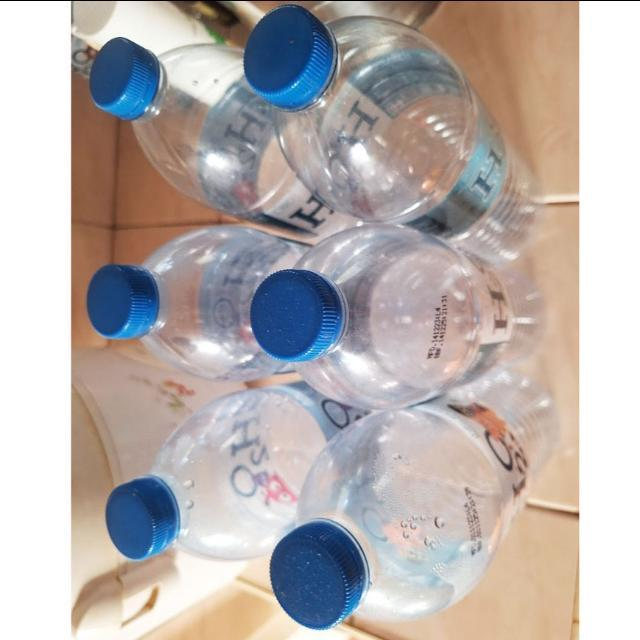PET Bottle: (210, 7, 551, 217), (250, 420, 563, 632), (238, 209, 554, 391), (84, 222, 308, 406), (66, 0, 249, 211), (76, 398, 298, 545)
